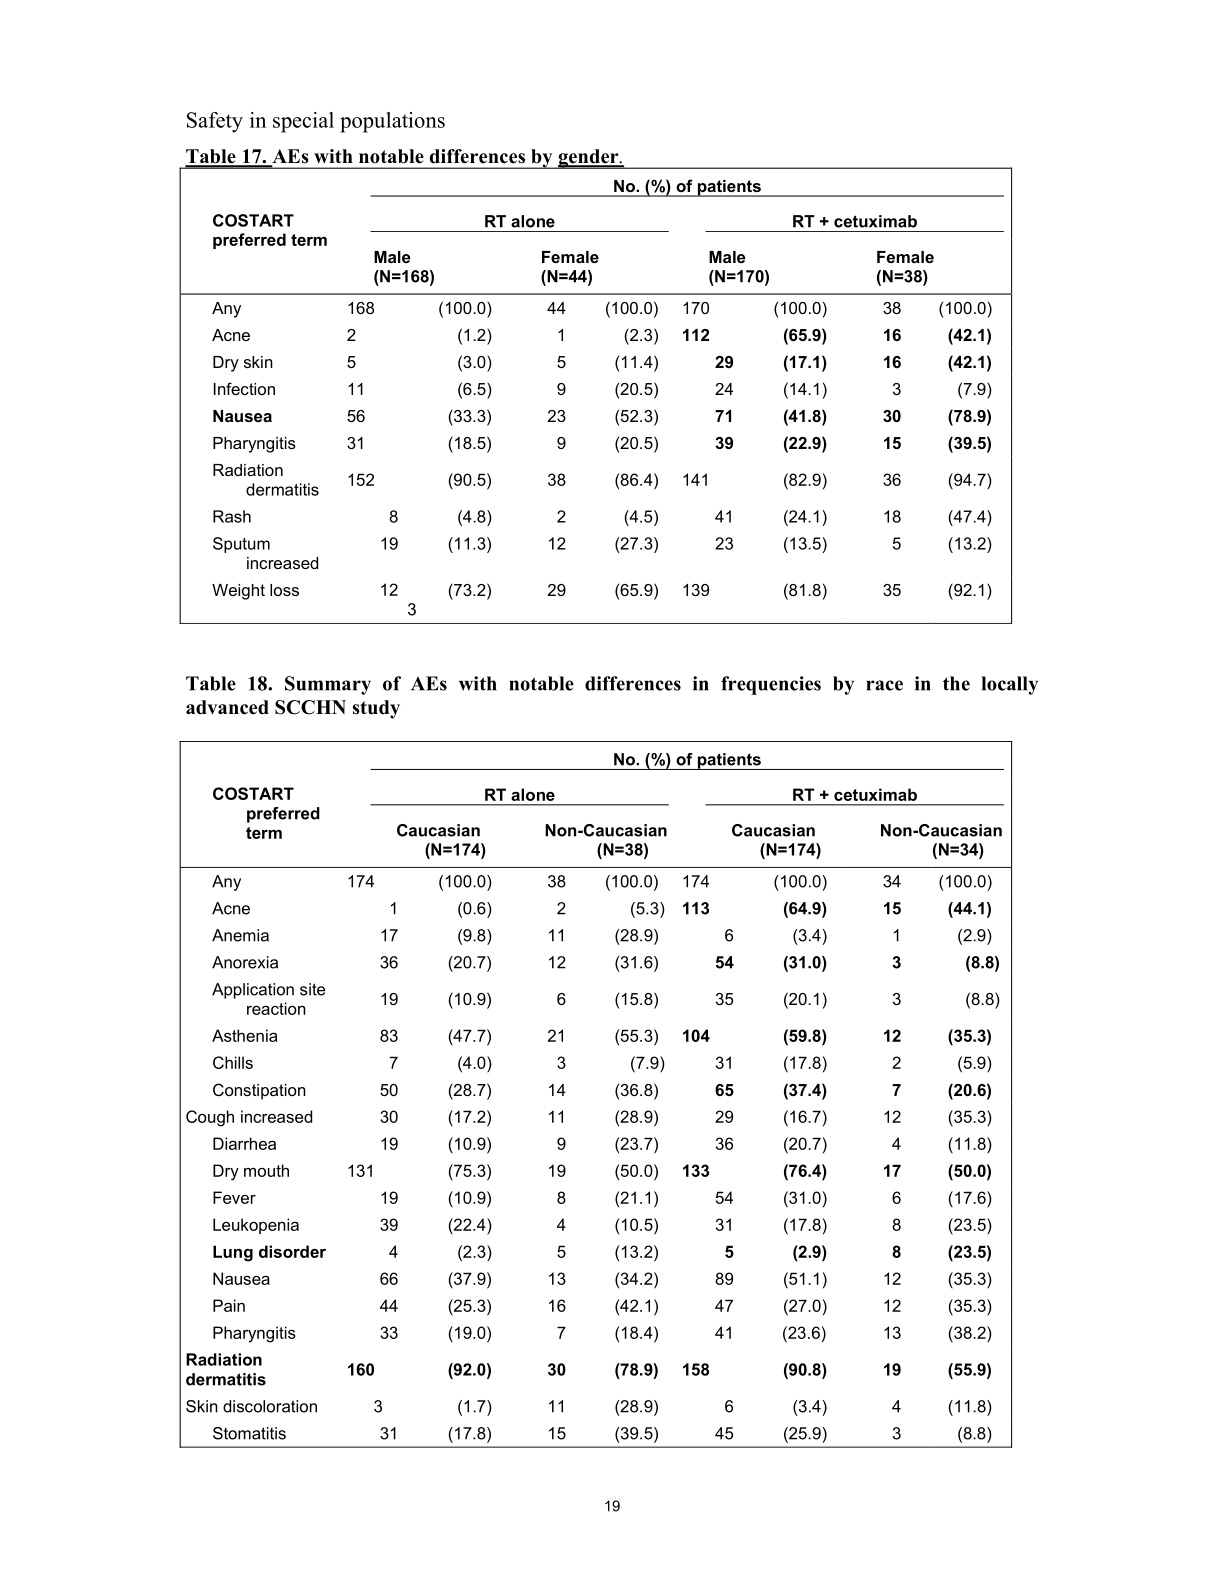partial_lined_merged_cells: (177, 739, 1014, 1450), (177, 165, 1014, 626)
